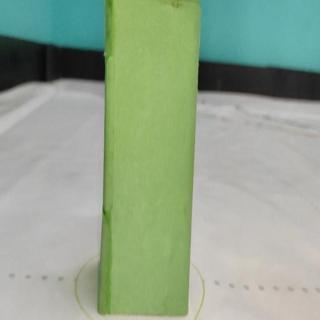greenbox: (95, 0, 202, 315)
